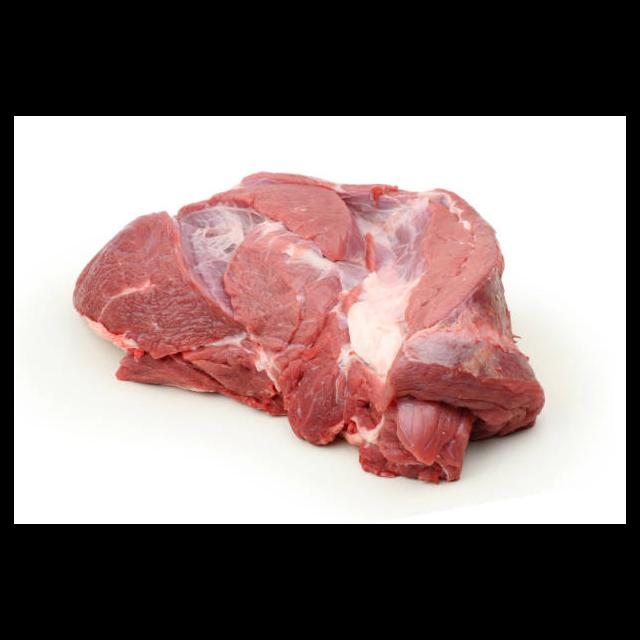beef: (74, 172, 546, 484)
